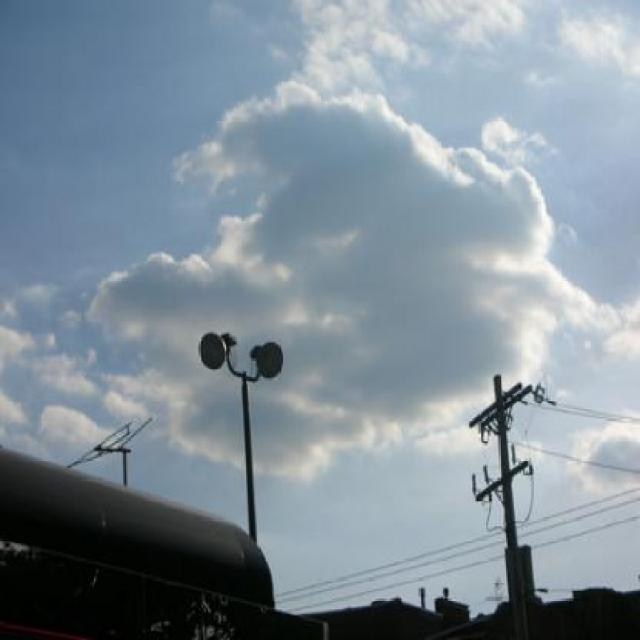pole: (205, 320, 328, 537), (467, 363, 559, 585), (83, 420, 142, 475)
